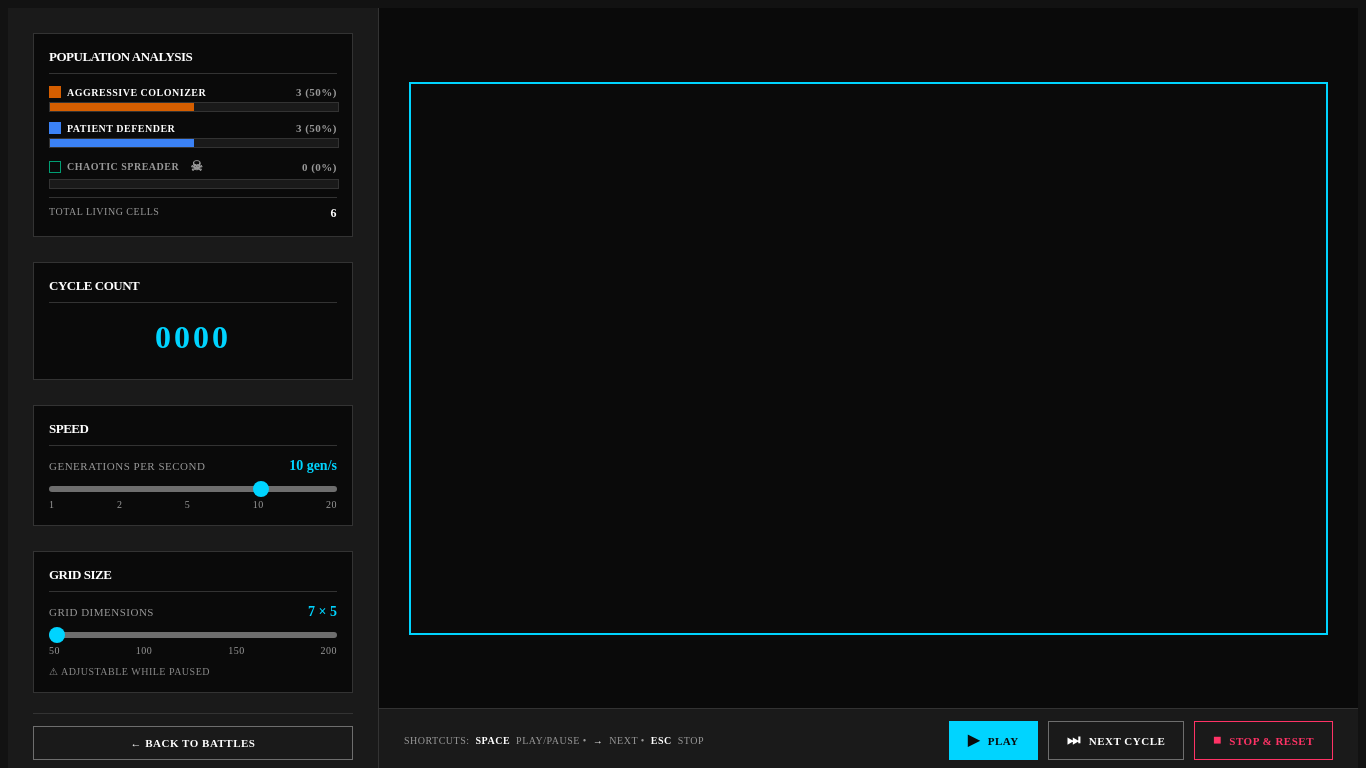
it: Play-mode ephemeral resize (Story 3.16) › has no axe violations with the Grid Size section present, enabled and disabled
Click the button "▶ Play" at (993, 740), box [949,721,1038,760]
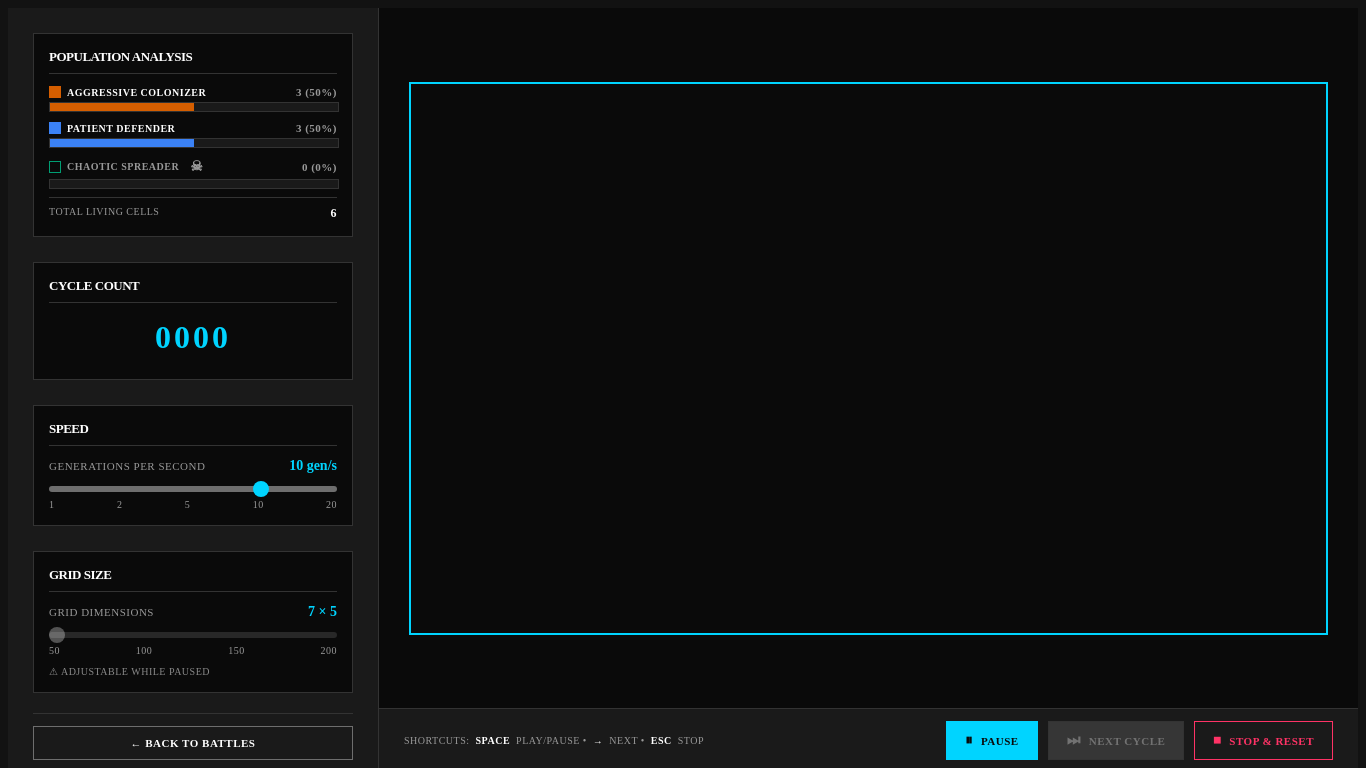
Now the slider labelled "Grid dimensions" is disabled, box [49,632,337,638]
